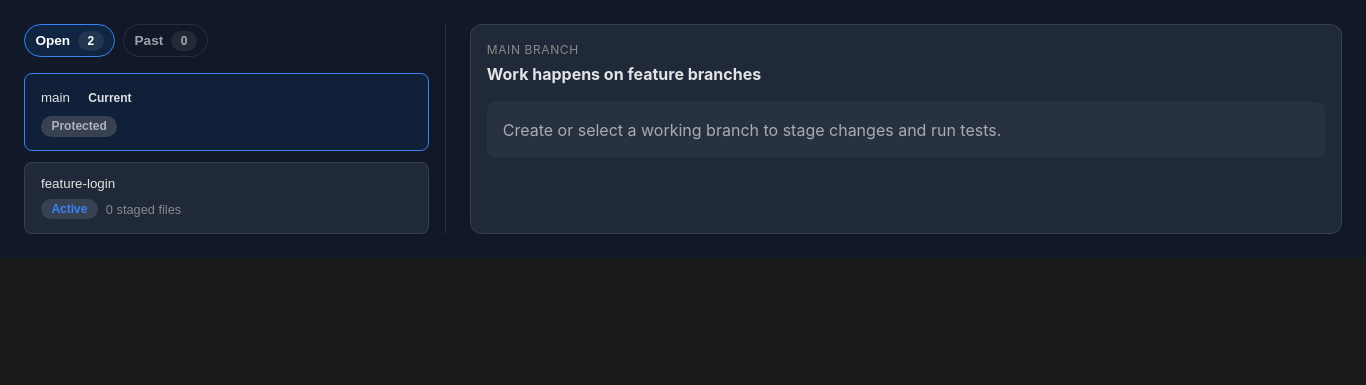
Scenario: BranchTab › local staged fallback only applies to tracked branch
This screenshot has width=1366, height=385.
expect the button with test id "branch-list-item-main" is shown: met, box [24, 73, 429, 151]
expect the element with test id "branch-main-info" is shown: met, box [470, 24, 1342, 234]
Click the button with test id "branch-list-item-feature-login" at point(78, 184), box [24, 162, 429, 234]
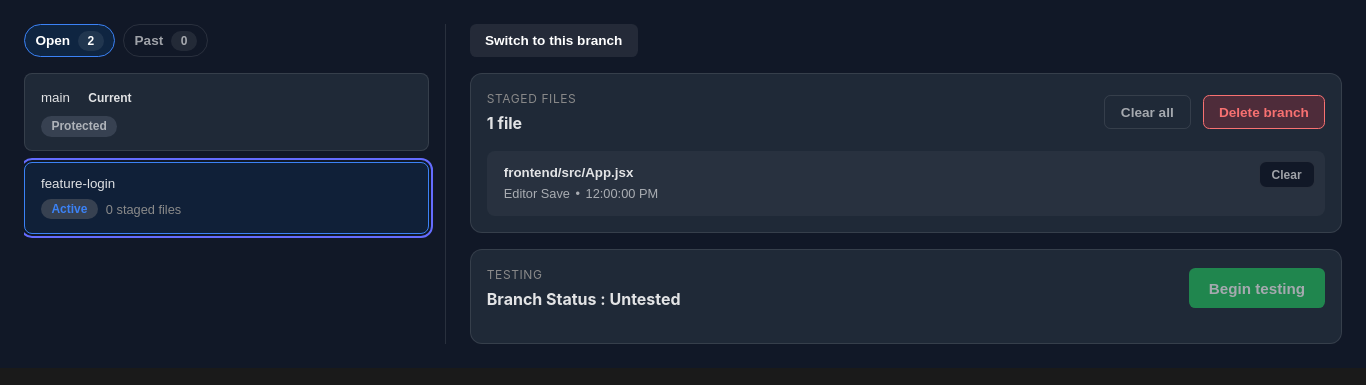
expect the button with test id "branch-file-frontend-src-app-jsx" is shown: met, box [487, 151, 1325, 216]
